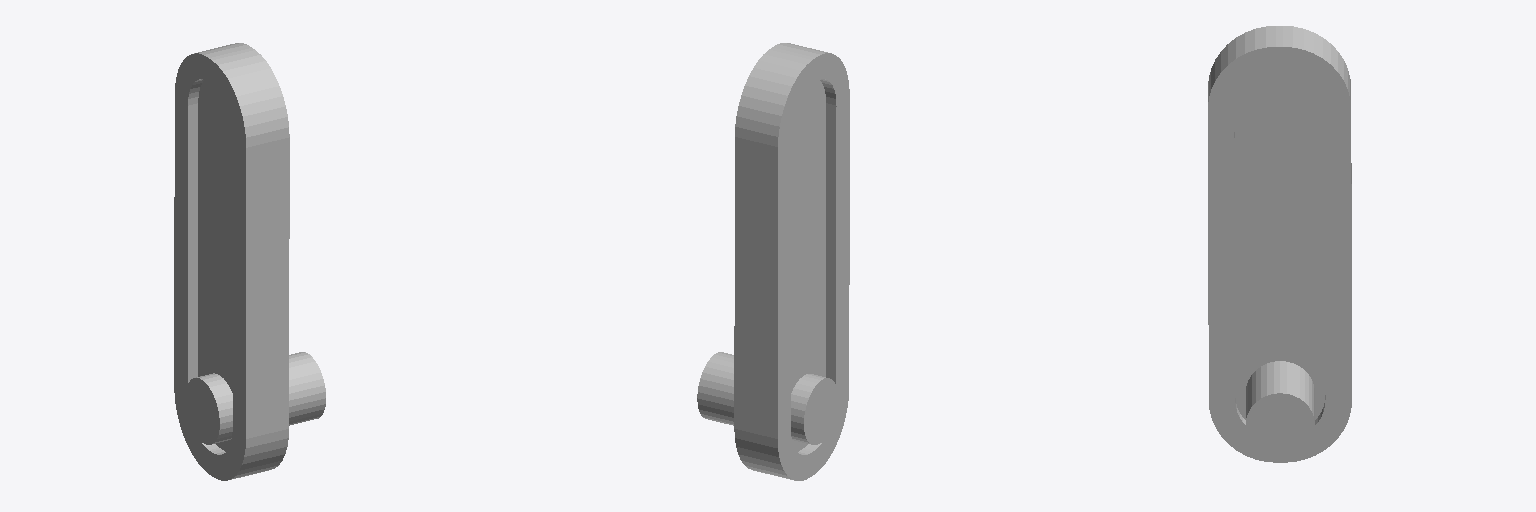
File: Bicep.obj
3 renders of one model, left to right at view 1: azimuth 30°, elevation 25°; view 2: azimuth 150°, elevation 25°; view 3: azimuth 270°, elevation 25°, orthographic.
Parts seen in each view (by area): view 1: Bicep_Cylinder.001; view 2: Bicep_Cylinder.001; view 3: Bicep_Cylinder.001.
Boxes of the visible parts, x1=… form: Bicep_Cylinder.001: x1=174, y1=43, x2=325, y2=480; Bicep_Cylinder.001: x1=697, y1=43, x2=849, y2=480; Bicep_Cylinder.001: x1=1208, y1=26, x2=1351, y2=462.
Size of the model in its own units: 1.11 by 4.13 by 1.3.